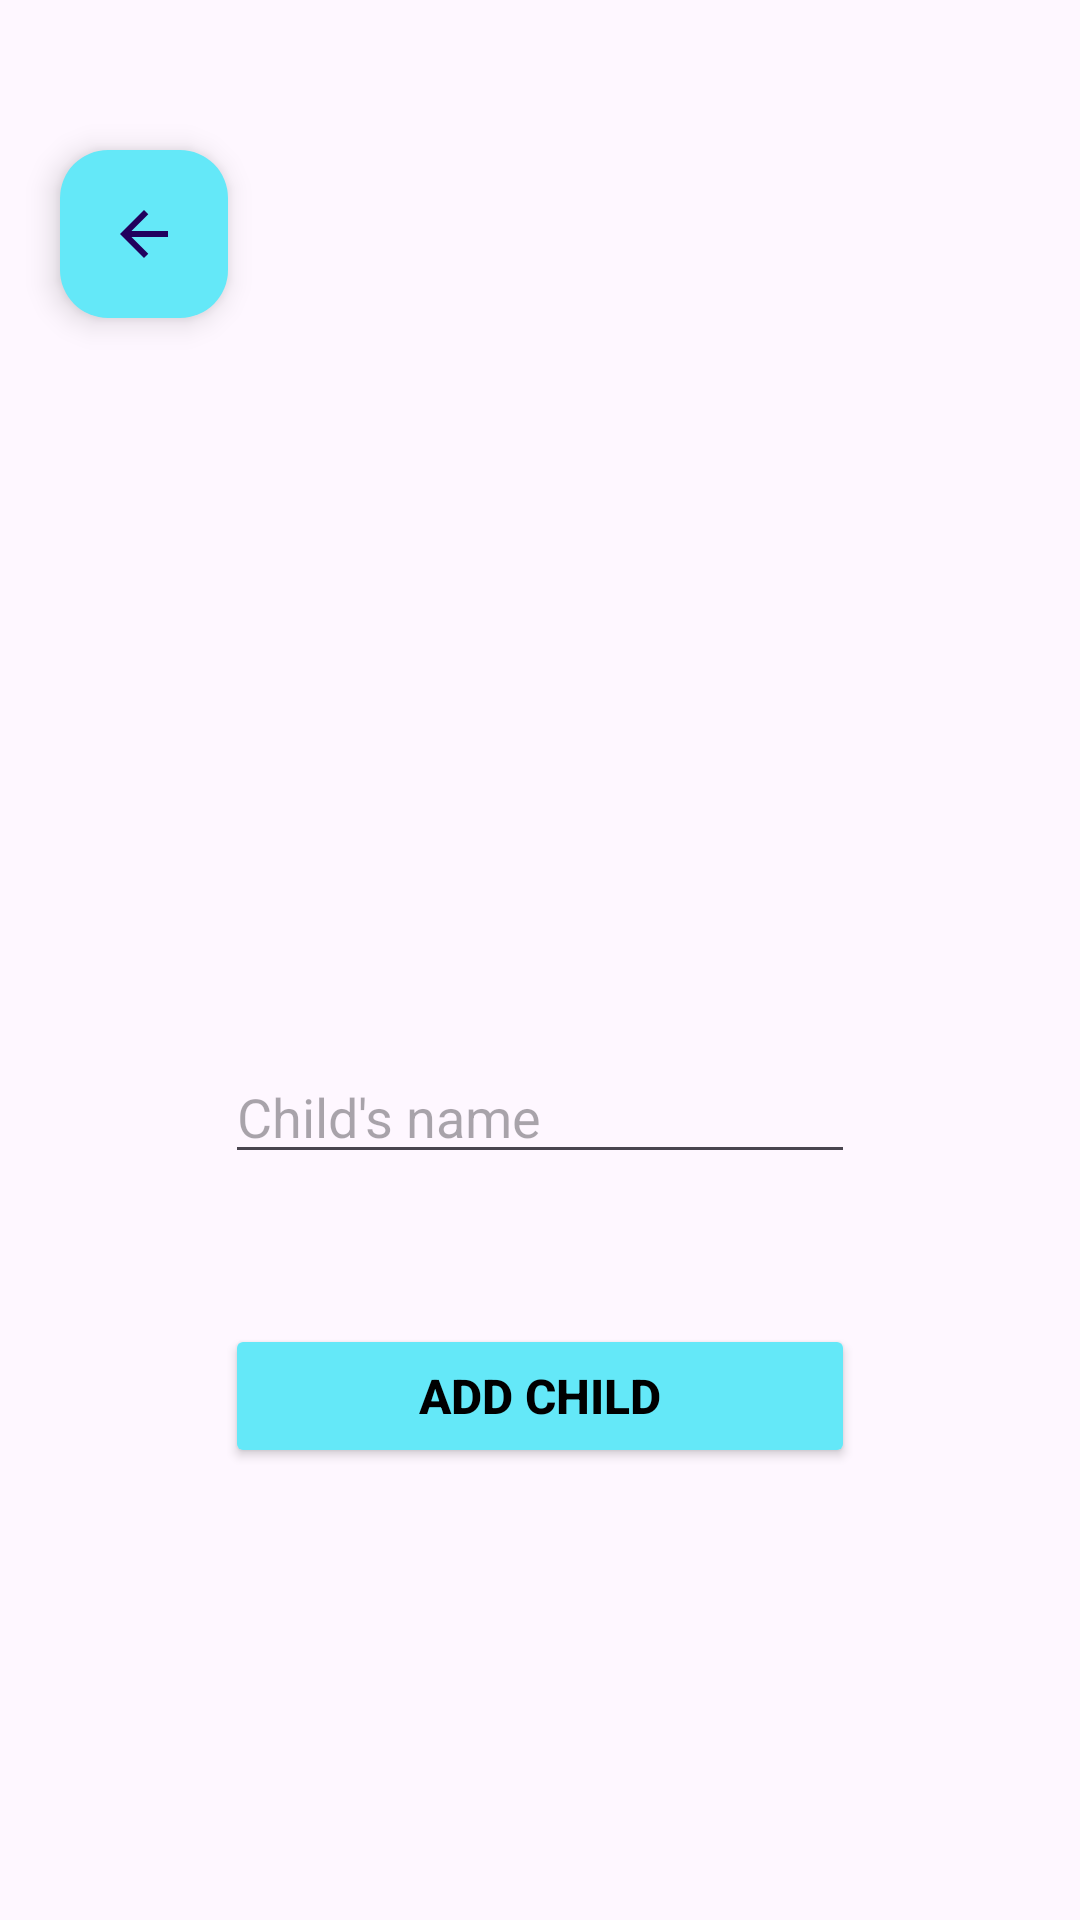

Where to tap for icons on this 1080x1920 app screen, as (x,y):
arrow back: (144,234)
